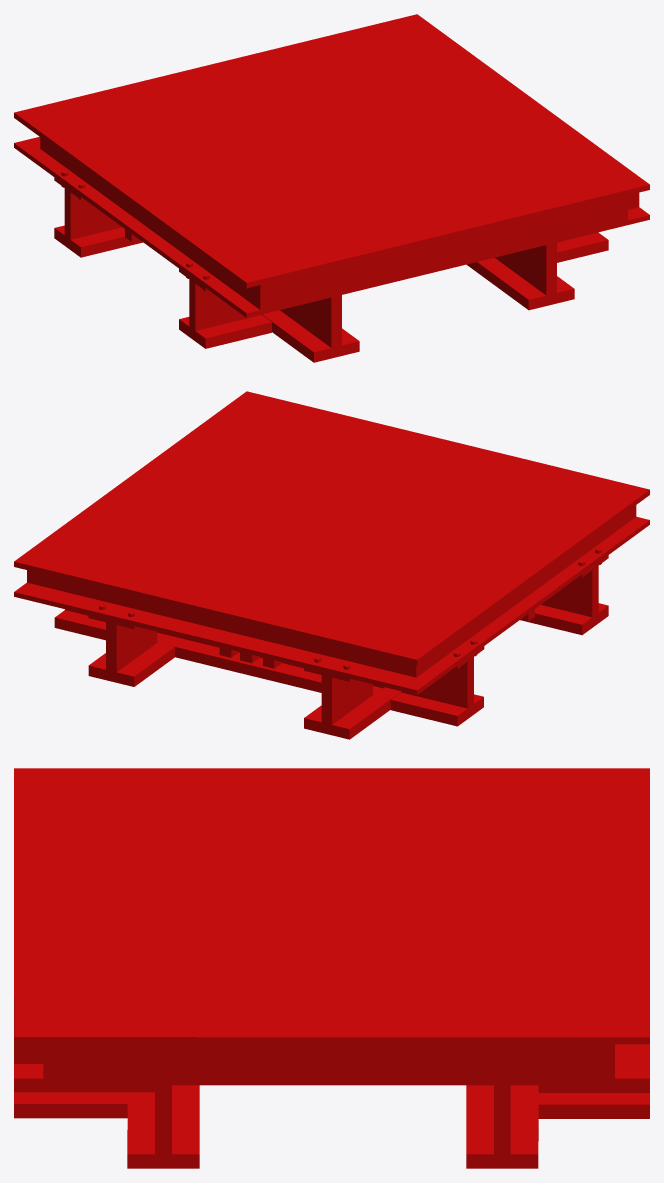
The picture shows the model from 3 angles, top to bottom: view 1: azimuth 30°, elevation 25°; view 2: azimuth 150°, elevation 25°; view 3: azimuth 270°, elevation 25°; orthographic projection. The views are drawn at different scales.
Visible parts, largest first — view 1: Mesh; view 2: Mesh; view 3: Mesh.
Part boxes in pixels (x1,y1,x2,y2): Mesh: (14, 14, 649, 362); Mesh: (14, 391, 649, 739); Mesh: (14, 768, 649, 1168).
Size of the model in its own units: 3 by 0.6839 by 3.
